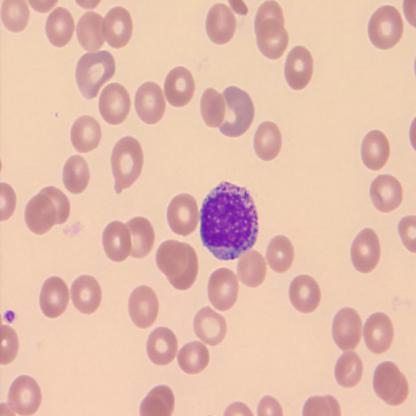Myelocyte: (200, 181, 261, 260)
